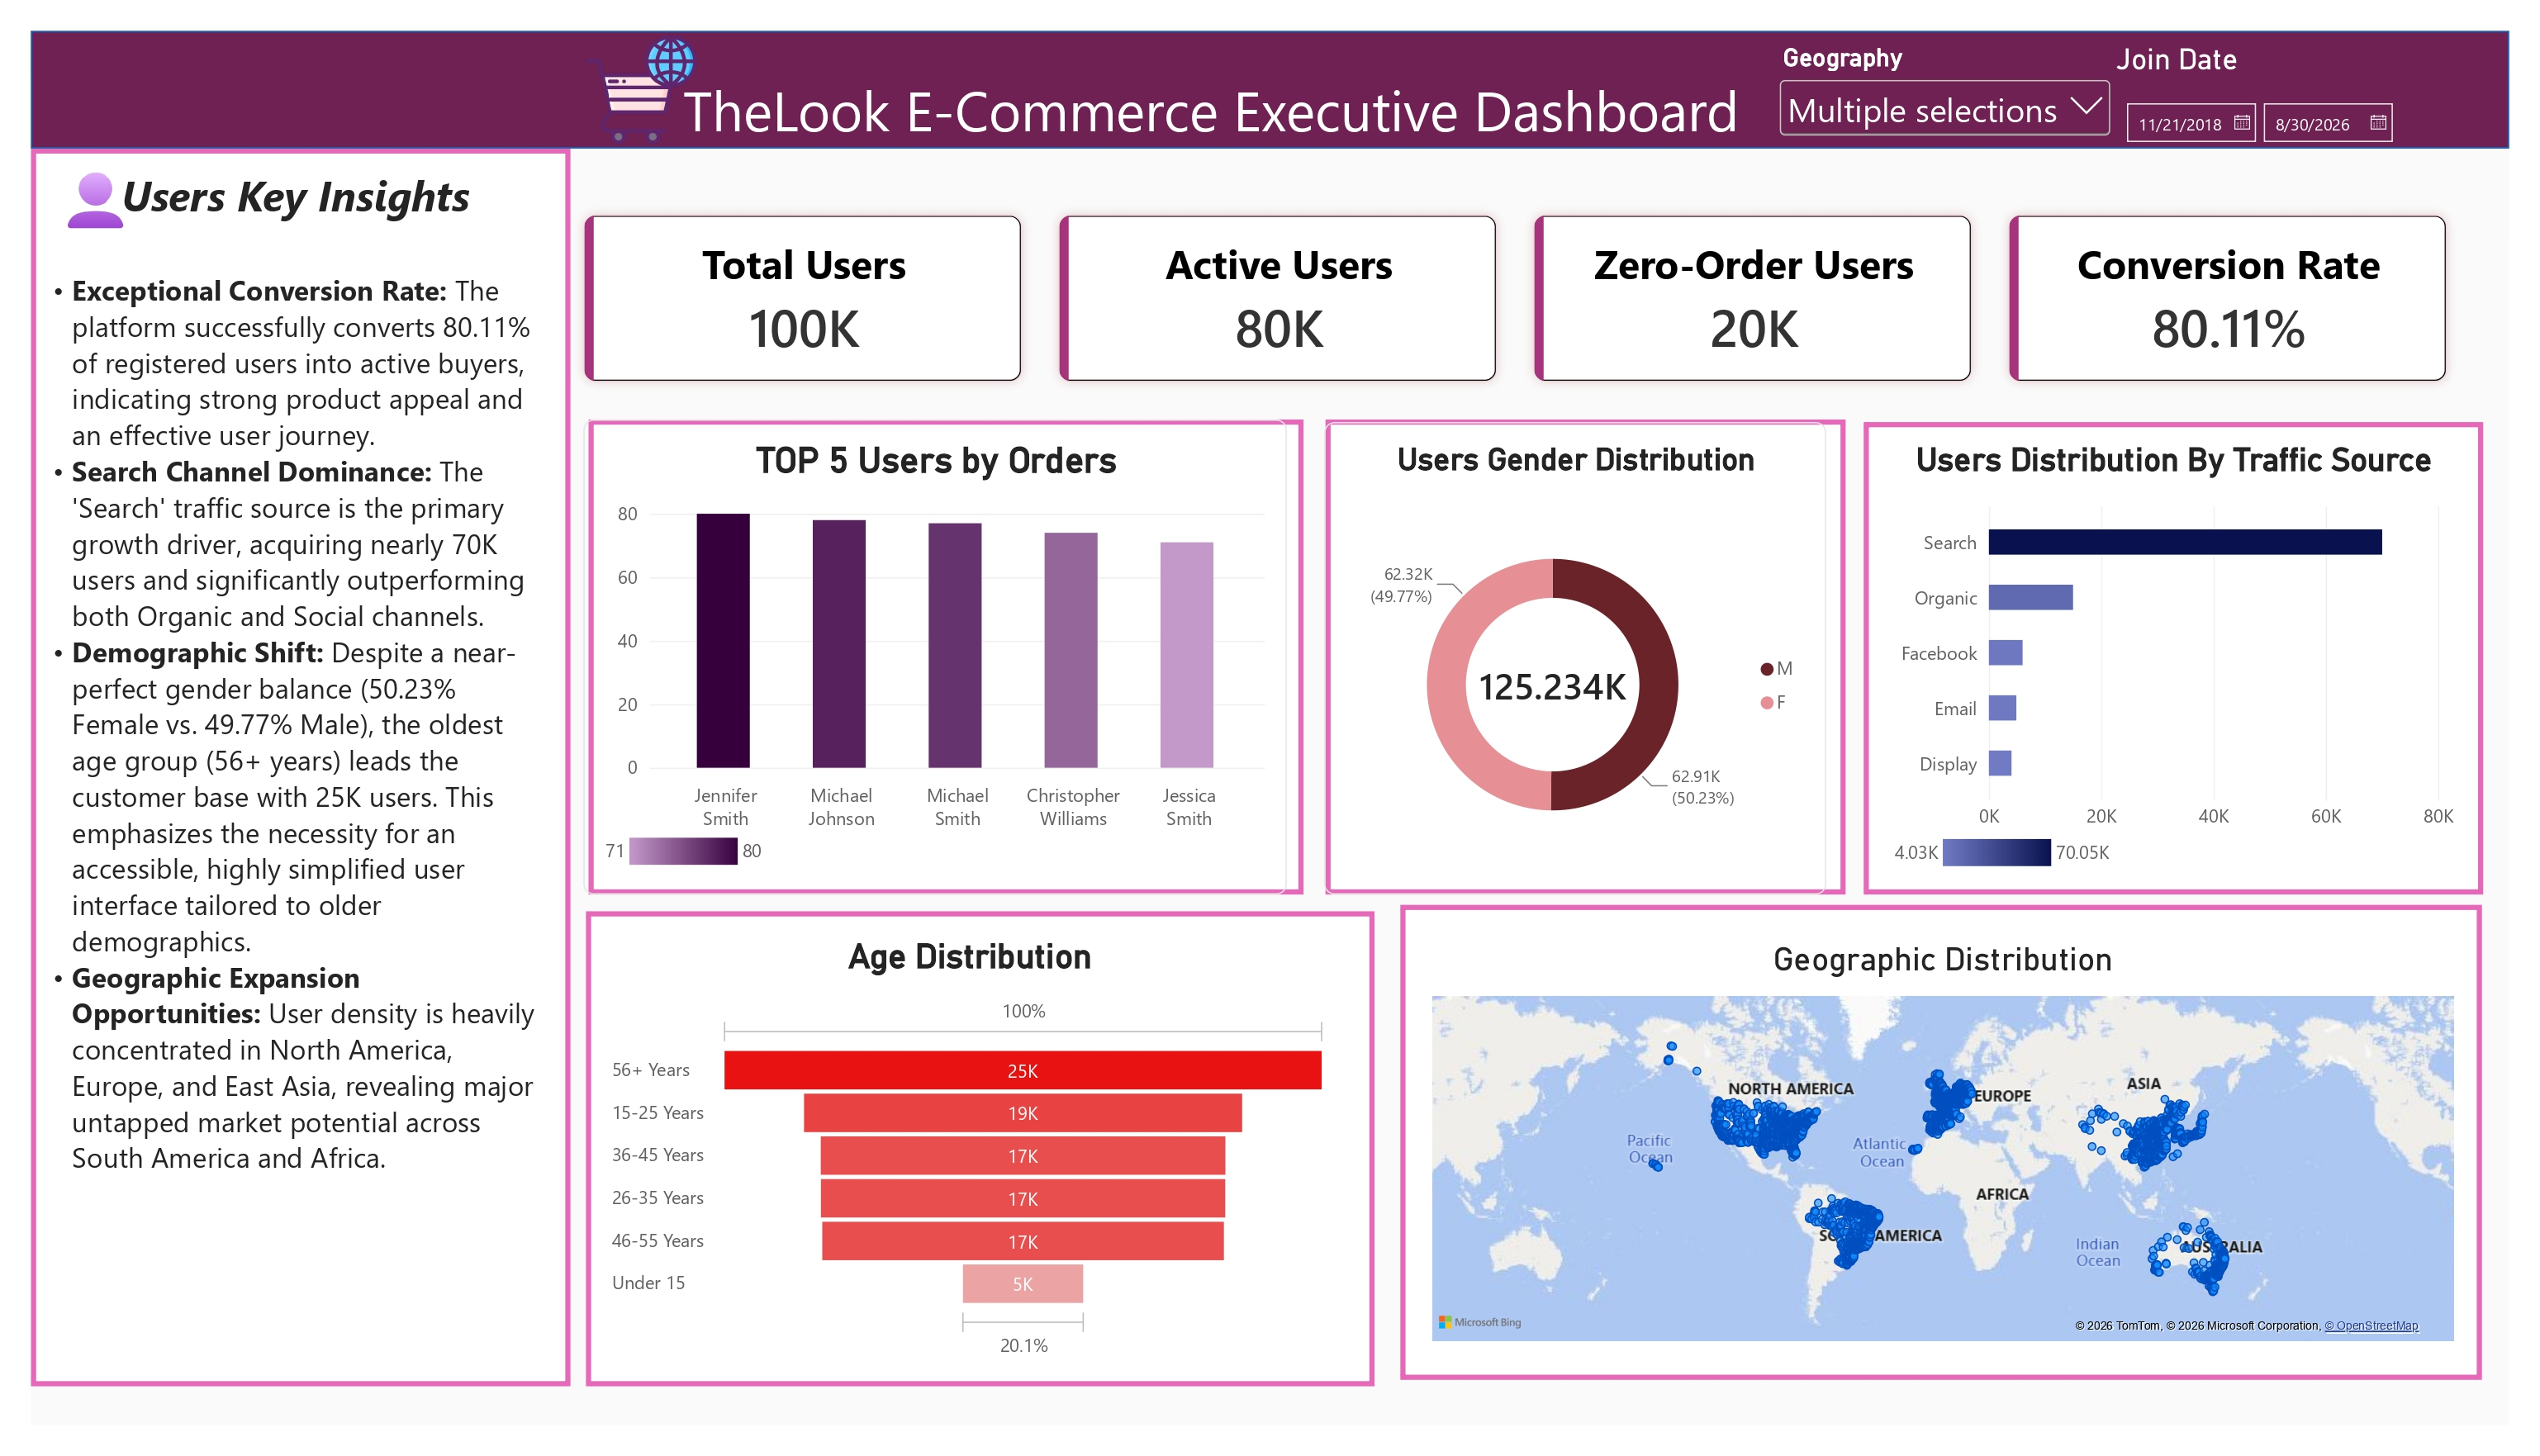

What the dashboard file says about the page in this screenshot:
{"tool":"powerbi","page":{"name":"Users","canvas":[1920,1080],"ordinal":0},"visuals":[{"type":"shape","box":[0,91.1,417.9,958.9],"z":0},{"type":"shape","box":[0,0,1920.4,90.6],"z":1000},{"type":"textbox","box":[458.9,32.1,910.7,73.2],"z":2000},{"type":"image","box":[417.9,0,109.1,90.6],"z":3000},{"type":"group","id":"g1","title":"Group 1","box":[431.8,300.5,554.1,368.4],"z":4000,"group":"g3"},{"type":"textbox","box":[496,398,132,244],"z":4000},{"type":"cardVisual","fields":{"Data":["users.Total Users","users.Active Users","users.Zero-Order Users","users.Conversion Rate"]},"box":[417.8,131.7,1467.6,150.3],"z":5000},{"type":"group","id":"g2","title":"Group 1","box":[1420.2,302.6,479.6,366.4],"z":5000,"group":"g8"},{"type":"group","id":"g3","title":"Group 2","box":[428.1,300.5,557.8,368.4],"z":6000},{"type":"columnChart","title":"TOP 5 Users by Orders","fields":{"Category":["customer_full_journey.Full Name"],"Y":["CountNonNull(customer_full_journey.order_id)"]},"box":[428.1,300.5,544.7,368.4],"z":7000,"group":"g3"},{"type":"group","id":"g4","title":"Group 3","box":[1002.4,300.5,403.4,368.4],"z":7000},{"type":"group","id":"g5","title":"Group 1","box":[1003.1,300.5,402.8,368.4],"z":7000,"group":"g4"},{"type":"group","id":"g6","title":"Group 1","box":[1060.7,676.8,837.5,367.9],"z":7000,"group":"g9"},{"type":"group","id":"g7","title":"Group 1","box":[430.4,682.1,610.7,367.9],"z":7000,"group":"g11"},{"type":"group","id":"g8","title":"Group 4","box":[1420.2,302.6,479.6,366.4],"z":8000},{"type":"donutChart","title":"Users Gender Distribution","fields":{"Category":["users.gender"],"Y":["CountNonNull(orders.user_id)"]},"box":[1002.4,302.3,388.9,366.2],"z":8001,"group":"g4"},{"type":"slicer","fields":{"Values":["users.country Hierarchy.country","users.country Hierarchy.state","users.country Hierarchy.city"]},"box":[1350,8.9,266.1,82.1],"z":9000},{"type":"barChart","title":"Users Distribution By Traffic Source","fields":{"Category":["users.traffic_source"],"Y":["CountNonNull(users.id)"]},"box":[1428.4,302.6,465.2,366.4],"z":9000,"group":"g8"},{"type":"group","id":"g9","title":"Group 3","box":[1060.7,676.8,837.5,367.9],"z":9000,"group":"g10"},{"type":"group","id":"g10","title":"Group 5","box":[1060.7,676.8,837.5,367.9],"z":10000},{"type":"group","id":"g11","title":"Group 3","box":[430.4,682.1,610.7,367.9],"z":10000,"group":"g12"},{"type":"map","title":"Geographic Distribution","fields":{"X":["users.longitude"],"Y":["users.latitude"]},"box":[1069.6,689.5,823.6,341.1],"z":10000,"group":"g10"},{"type":"group","id":"g12","title":"Group 6","box":[430.4,682.1,610.7,367.9],"z":11000},{"type":"funnel","title":"Age Distribution","fields":{"Category":["users.Age Group"],"Y":["users.Total Users"]},"box":[434,687.5,587.5,357.1],"z":11000,"group":"g12"},{"type":"slicer","title":"Join Date","fields":{"Values":["inventory_items.created_at"]},"box":[1616.1,8.9,303.6,82.1],"z":12000},{"type":"textbox","box":[69.6,105.4,332.1,55.4],"z":13000},{"type":"shape","box":[431.8,300.5,554.1,368.4],"z":13000,"group":"g1"},{"type":"shape","box":[1003.1,300.5,402.8,368.4],"z":13000,"group":"g5"},{"type":"shape","box":[1420.2,302.6,479.6,366.4],"z":13000,"group":"g2"},{"type":"shape","box":[1060.7,676.8,837.5,367.9],"z":13000,"group":"g6"},{"type":"shape","box":[430.4,682.1,610.7,367.9],"z":13000,"group":"g7"},{"type":"image","box":[0,105.4,100,51.8],"z":14000},{"type":"textbox","box":[0,185.7,401.8,894.6],"z":15000}]}

Visuals, with their boxes on the page's 1920x1080 design canvas (x1, y1, x2, y2). These are canvas units, not pixel positions in the 2540x1456 screenshot, which may show the page scaled, cropped or inside an application window:
shape: bbox=(0, 91, 418, 1050)
shape: bbox=(0, 0, 1920, 91)
textbox: bbox=(459, 32, 1370, 105)
image: bbox=(418, 0, 527, 91)
"Group 1" group: bbox=(432, 300, 986, 669)
textbox: bbox=(496, 398, 628, 642)
cardVisual - users.Total Users x users.Active Users: bbox=(418, 132, 1885, 282)
"Group 1" group: bbox=(1420, 303, 1900, 669)
"Group 2" group: bbox=(428, 300, 986, 669)
"TOP 5 Users by Orders" columnChart: bbox=(428, 300, 973, 669)
"Group 3" group: bbox=(1002, 300, 1406, 669)
"Group 1" group: bbox=(1003, 300, 1406, 669)
"Group 1" group: bbox=(1061, 677, 1898, 1045)
"Group 1" group: bbox=(430, 682, 1041, 1050)
"Group 4" group: bbox=(1420, 303, 1900, 669)
"Users Gender Distribution" donutChart: bbox=(1002, 302, 1391, 668)
slicer - users.country Hierarchy.country x users.country Hierarchy.state: bbox=(1350, 9, 1616, 91)
"Users Distribution By Traffic Source" barChart: bbox=(1428, 303, 1894, 669)
"Group 3" group: bbox=(1061, 677, 1898, 1045)
"Group 5" group: bbox=(1061, 677, 1898, 1045)
"Group 3" group: bbox=(430, 682, 1041, 1050)
"Geographic Distribution" map: bbox=(1070, 690, 1893, 1031)
"Group 6" group: bbox=(430, 682, 1041, 1050)
"Age Distribution" funnel: bbox=(434, 688, 1022, 1045)
"Join Date" slicer: bbox=(1616, 9, 1920, 91)
textbox: bbox=(70, 105, 402, 161)
shape: bbox=(432, 300, 986, 669)
shape: bbox=(1003, 300, 1406, 669)
shape: bbox=(1420, 303, 1900, 669)
shape: bbox=(1061, 677, 1898, 1045)
shape: bbox=(430, 682, 1041, 1050)
image: bbox=(0, 105, 100, 157)
textbox: bbox=(0, 186, 402, 1080)
